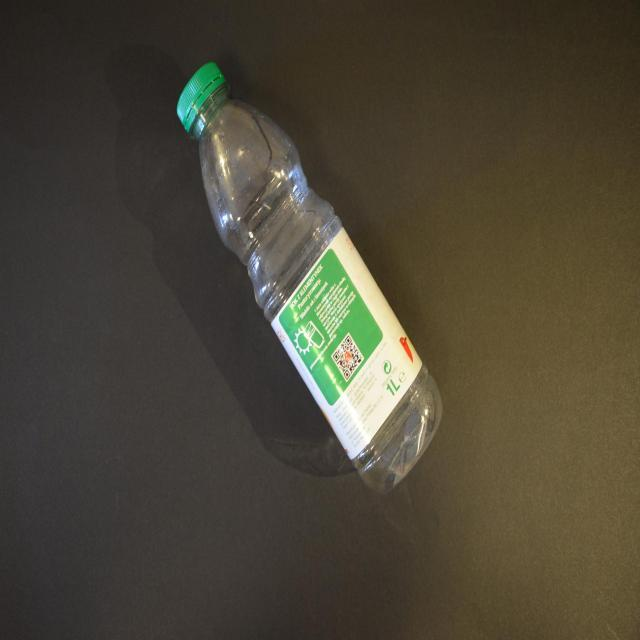plastic_bottle: (177, 61, 444, 493)
